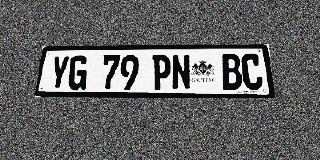7: (100, 55, 121, 90)
9: (119, 55, 139, 90)
B: (221, 54, 243, 90)
C: (241, 54, 264, 90)
G: (67, 55, 88, 90)
N: (171, 54, 191, 90)
P: (152, 55, 171, 90)
Y: (48, 55, 70, 90)
